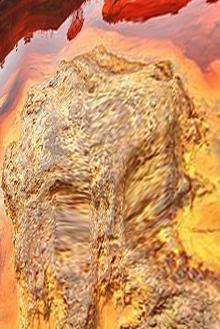Acid Pollution: (2, 0, 220, 329)
